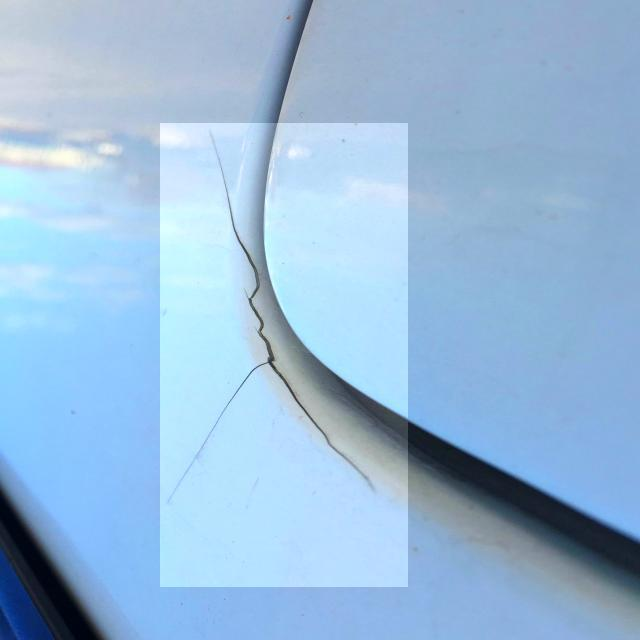crack: (161, 125, 409, 589)
